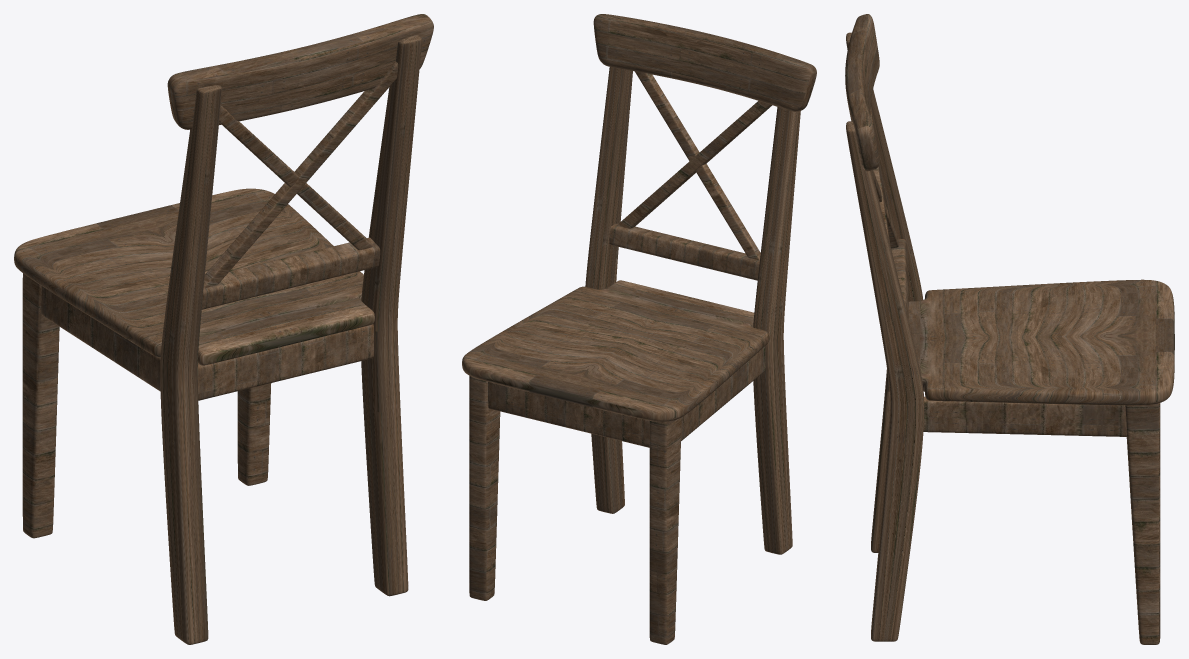
File: chair.obj
3 views of the same model, side by side, from view 1: azimuth 30°, elevation 25°; view 2: azimuth 150°, elevation 25°; view 3: azimuth 270°, elevation 25° (orthographic). The views are drawn at different scales.
Bounding box in the file's own units: 0.513 × 1.08 × 0.6128.
1 material, 1 textured.
